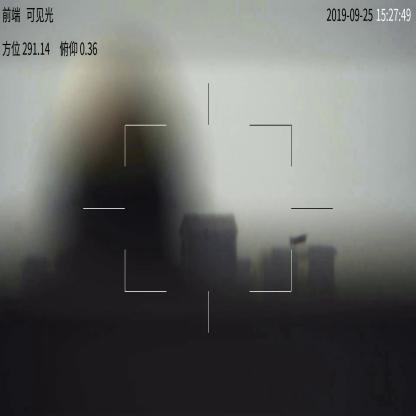uav: (289, 233, 308, 247)
